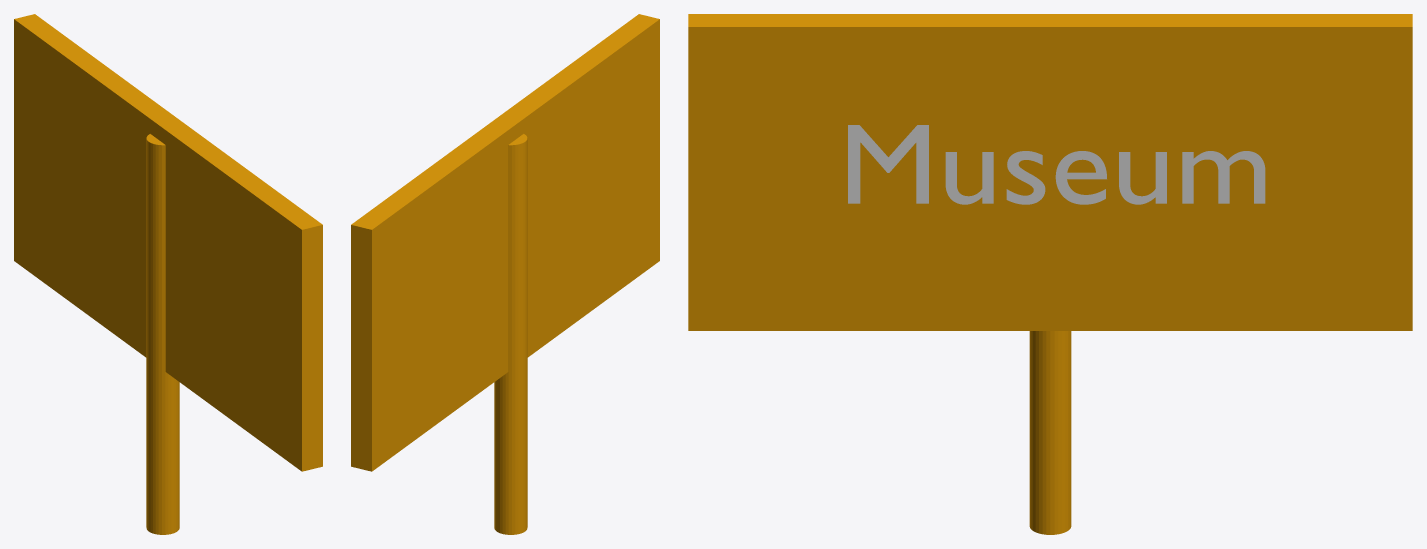
File: Kyltti11.fbx
The picture shows the model from 3 angles, left to right: view 1: azimuth 30°, elevation 25°; view 2: azimuth 150°, elevation 25°; view 3: azimuth 270°, elevation 25°; orthographic projection. The views are drawn at different scales.
Parts seen in each view (by area): view 1: Kyltti11, Cylinder.010; view 2: Kyltti11, Cylinder.010; view 3: Kyltti11, Text.012, Cylinder.010.
Part boxes in pixels (left/top/right/bottom): Kyltti11: left=14, top=14, right=322, bottom=471; Cylinder.010: left=146, top=134, right=179, bottom=534; Kyltti11: left=351, top=14, right=659, bottom=471; Cylinder.010: left=494, top=134, right=527, bottom=534; Kyltti11: left=688, top=14, right=1412, bottom=330; Text.012: left=848, top=125, right=1265, bottom=204; Cylinder.010: left=1029, top=331, right=1071, bottom=534.
Size of the model in its own units: 36.68 by 442 by 570.
